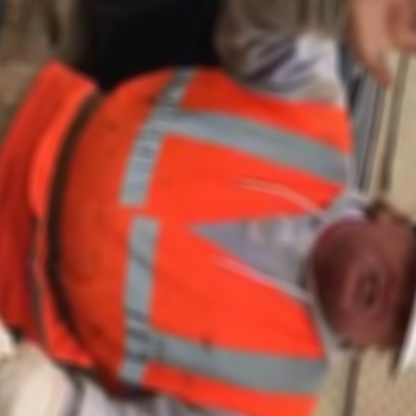vest: (0, 36, 377, 416)
white: (385, 173, 416, 400)
